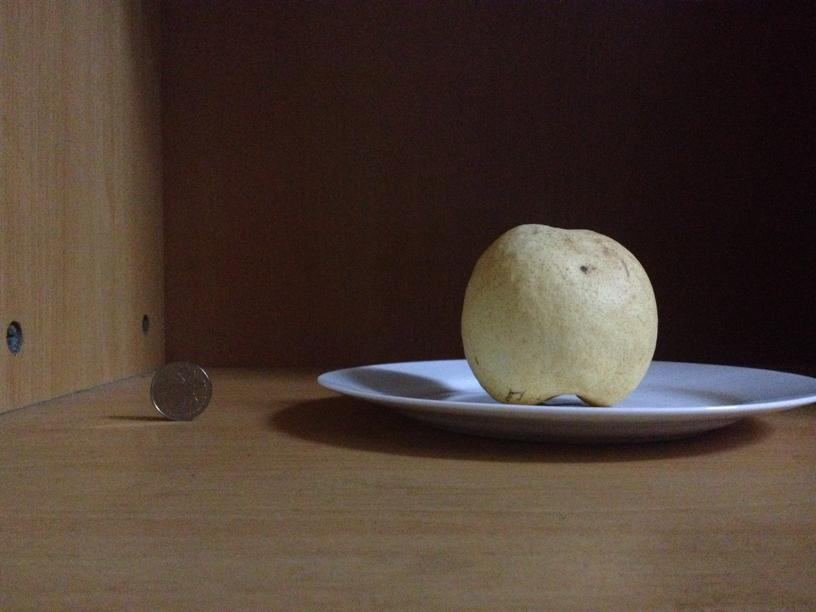coin: (146, 364, 214, 420)
pear: (462, 224, 658, 407)
